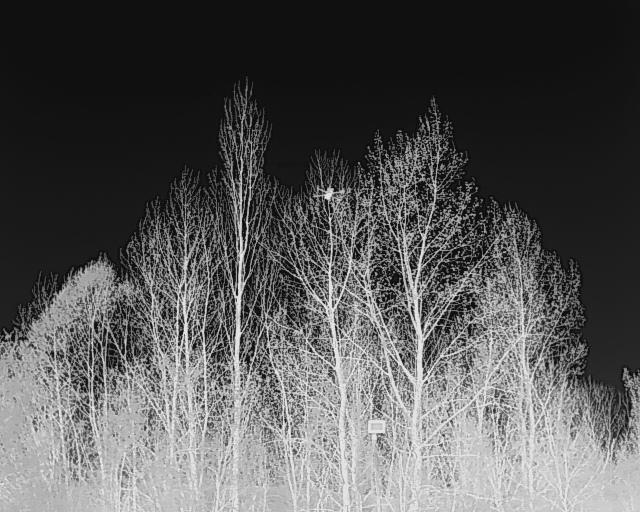drone: (312, 182, 343, 212)
